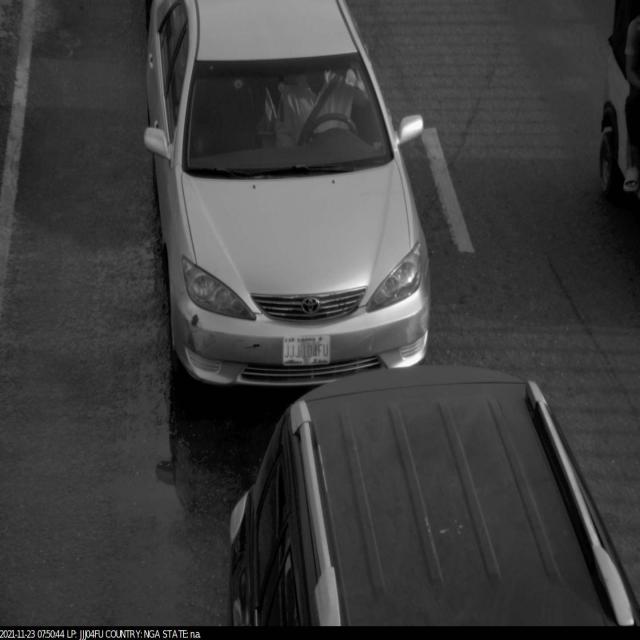windshield: (172, 46, 400, 189)
